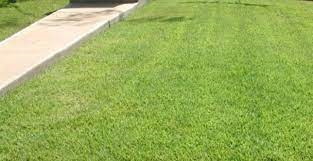grass: (2, 65, 310, 156), (62, 1, 311, 64)
